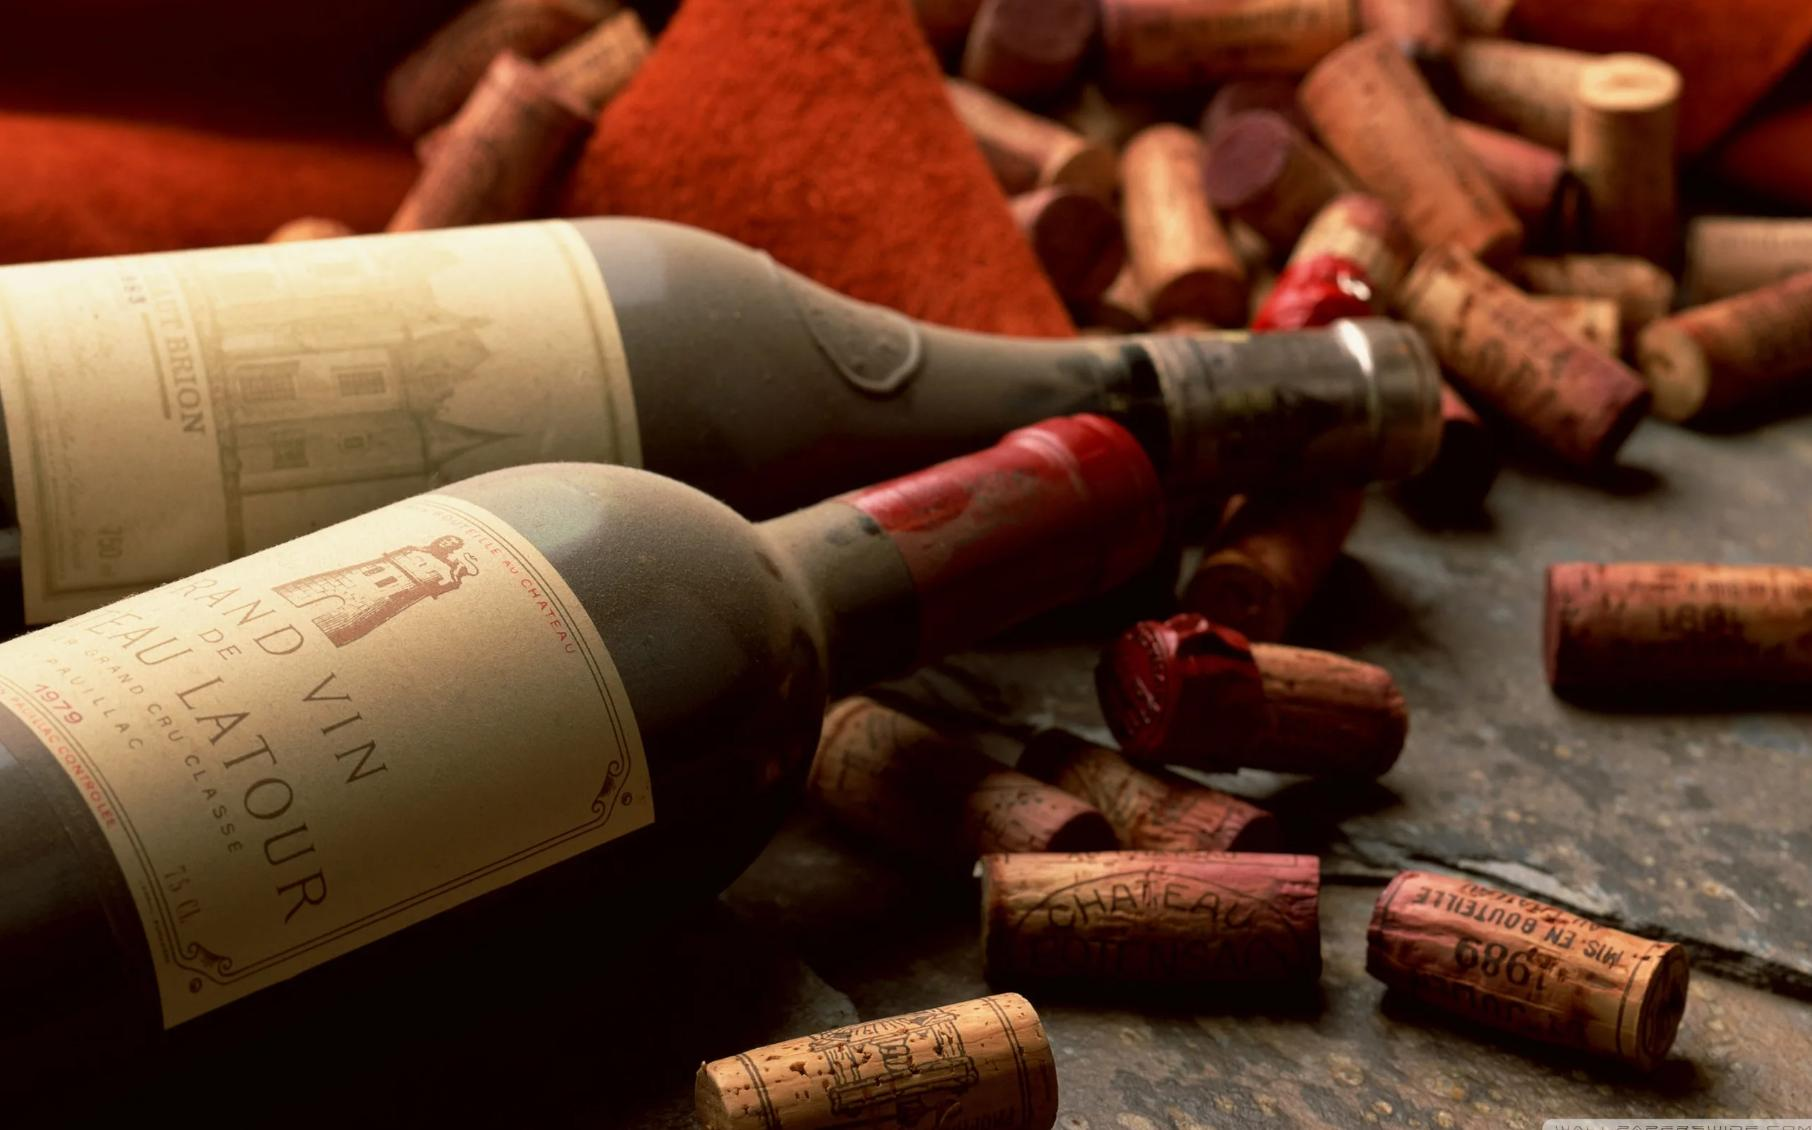wine bottle: (0, 407, 1177, 1130), (0, 216, 1441, 646)
wine label: (0, 484, 665, 1021), (3, 216, 644, 624)
